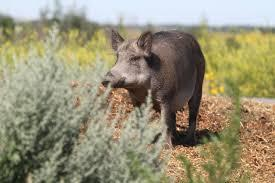wildboar: (99, 26, 209, 146)
